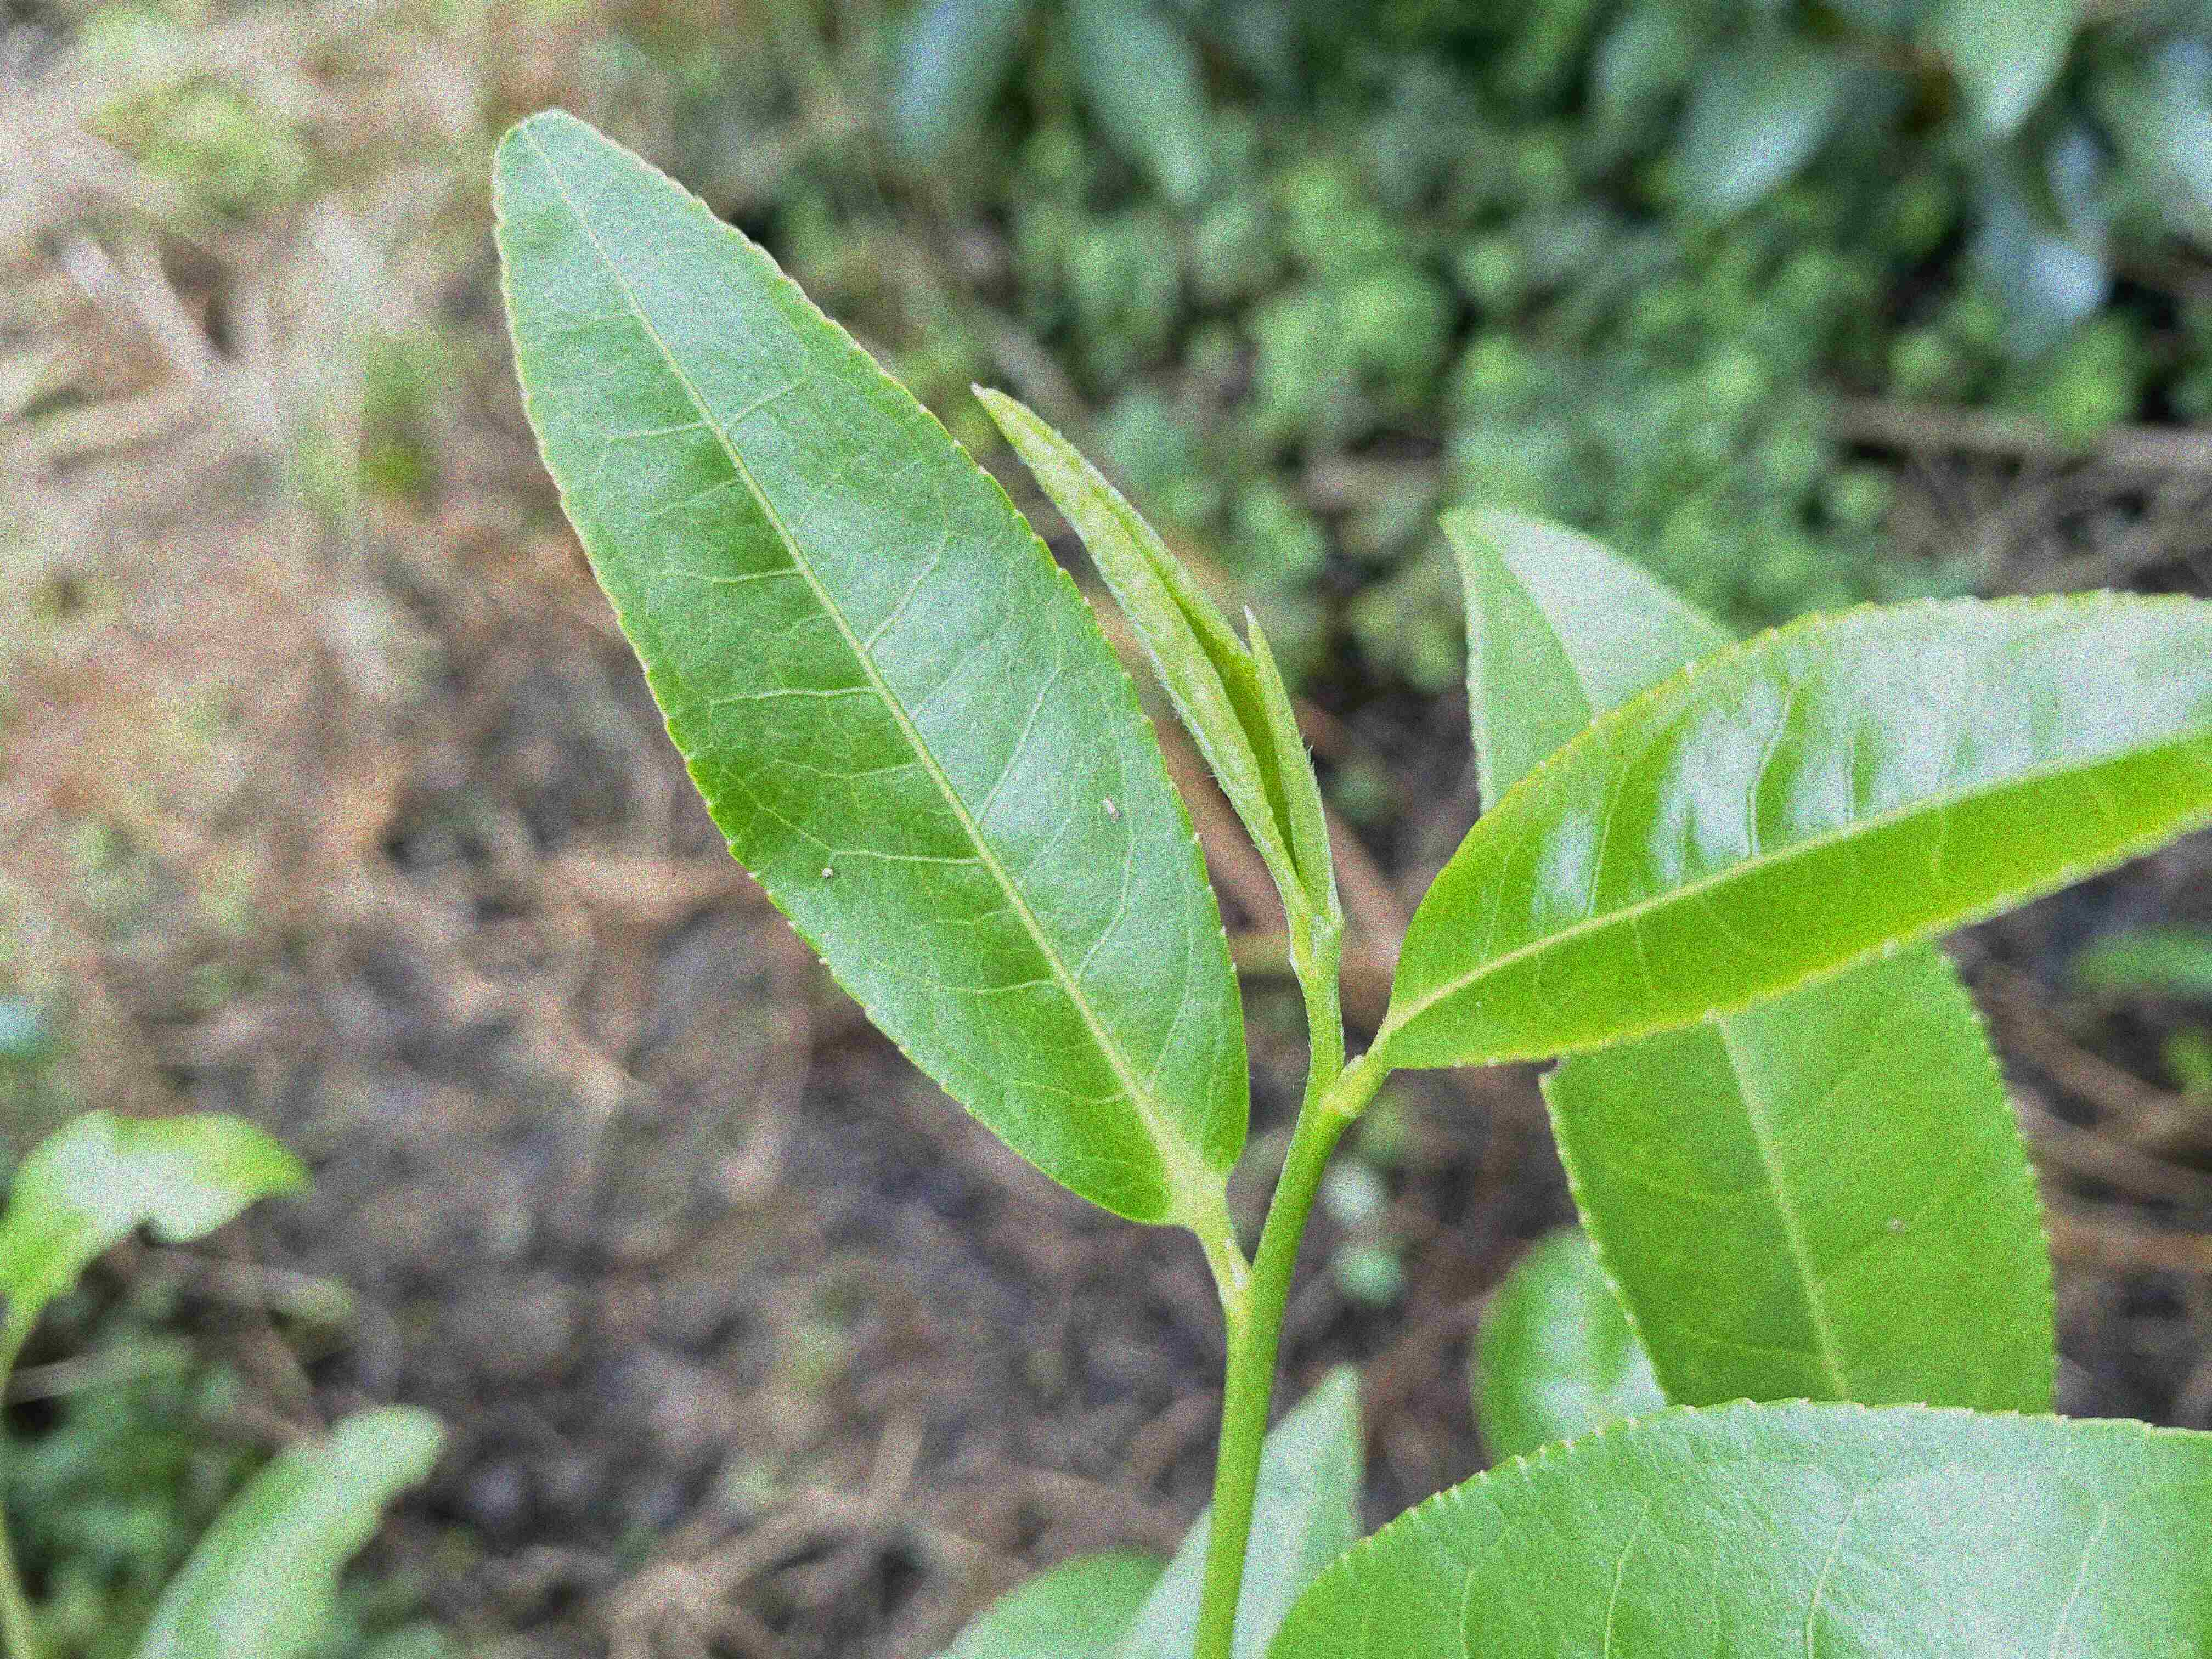healthy: (486, 106, 1254, 1229), (1376, 591, 2212, 1073), (1270, 1398, 2212, 1657)
